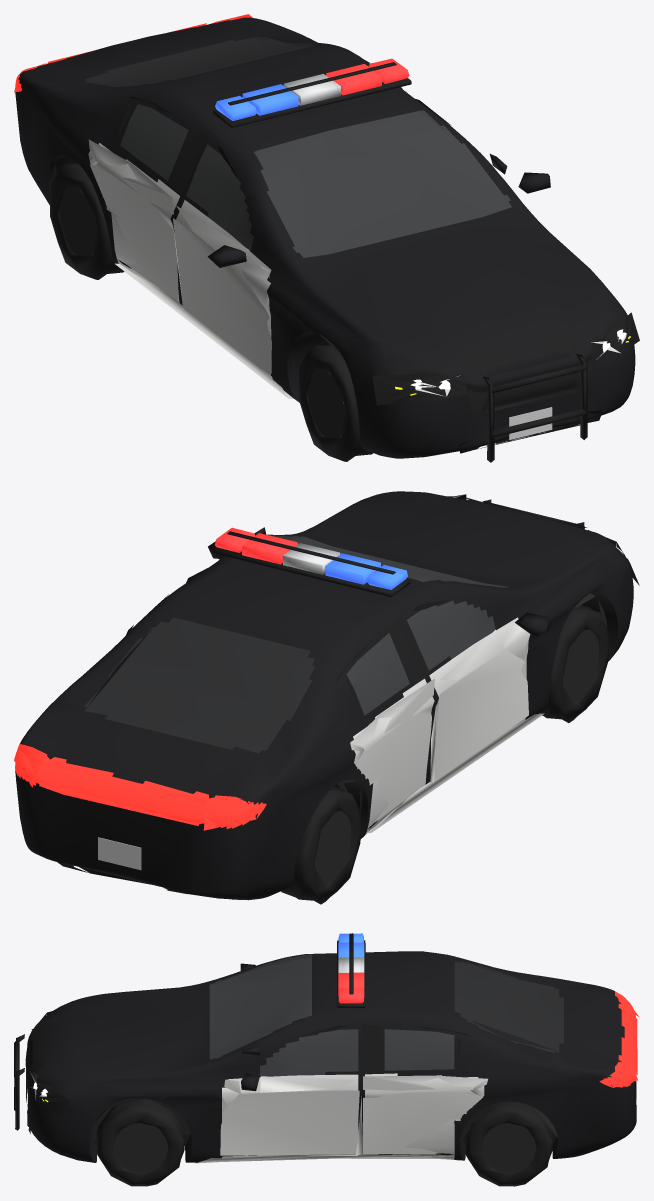
File: patrolSedan-lod2.glb
The picture shows the model from 3 angles, top to bottom: view 1: azimuth 30°, elevation 25°; view 2: azimuth 150°, elevation 25°; view 3: azimuth 270°, elevation 25°; orthographic projection. The views are drawn at different scales.
Parts seen in each view (by area): view 1: Body, Body_Lining, Body_Trim, Wheel_FR_Tyre, Wheel_RR_Tyre, Wheel_FR_Face, Wheel_RR_Face, EmergencyBarBase, EmergencyBarBlue, EmergencyBarClear1, EmergencyBarRed2, PlateFront (+4 smaller); view 2: Body, Body_Trim, Body_Lining, Wheel_RR_Tyre, Wheel_FR_Tyre, Wheel_RR_Face, Wheel_FR_Face, EmergencyBarBase, PlateRear, EmergencyBarClear1, EmergencyBarBlue, EmergencyBarRed2 (+3 smaller); view 3: Body, Body_Trim, Body_Lining, Wheel_FL_Tyre, Wheel_RL_Tyre, Wheel_RL_Face, Wheel_FL_Face, Arch_F_L_Liner, Arch_R_L_Liner, EmergencyBarRed2, EmergencyBarBase, EmergencyBarRed (+2 smaller).
Part boxes in pixels (bbox=[...]): Body: bbox=[15, 17, 635, 458]; Body_Lining: bbox=[88, 40, 511, 257]; Body_Trim: bbox=[14, 14, 639, 453]; Wheel_FR_Tyre: bbox=[298, 344, 373, 461]; Wheel_RR_Tyre: bbox=[50, 163, 124, 279]; Wheel_FR_Face: bbox=[308, 369, 343, 438]; Wheel_RR_Face: bbox=[59, 187, 94, 256]; EmergencyBarBase: bbox=[213, 78, 411, 127]; EmergencyBarBlue: bbox=[242, 84, 298, 115]; EmergencyBarClear1: bbox=[283, 74, 340, 105]; EmergencyBarRed2: bbox=[326, 64, 381, 95]; PlateFront: bbox=[509, 407, 552, 439]; Body: bbox=[15, 491, 633, 900]; Body_Trim: bbox=[14, 494, 639, 894]; Body_Lining: bbox=[85, 537, 506, 752]; Wheel_RR_Tyre: bbox=[281, 786, 361, 904]; Wheel_FR_Tyre: bbox=[539, 605, 608, 722]; Wheel_RR_Face: bbox=[314, 810, 351, 883]; Wheel_FR_Face: bbox=[562, 629, 598, 702]; EmergencyBarBase: bbox=[212, 547, 410, 596]; PlateRear: bbox=[98, 837, 141, 870]; EmergencyBarClear1: bbox=[282, 543, 340, 574]; EmergencyBarBlue: bbox=[325, 553, 380, 584]; EmergencyBarRed2: bbox=[242, 533, 297, 564]; Body: bbox=[27, 951, 636, 1162]; Body_Trim: bbox=[25, 963, 639, 1163]; Body_Lining: bbox=[210, 958, 563, 1076]; Wheel_FL_Tyre: bbox=[96, 1098, 184, 1186]; Wheel_RL_Tyre: bbox=[465, 1101, 552, 1186]; Wheel_RL_Face: bbox=[481, 1123, 536, 1172]; Wheel_FL_Face: bbox=[113, 1123, 168, 1172]; Arch_F_L_Liner: bbox=[90, 1097, 190, 1140]; Arch_R_L_Liner: bbox=[460, 1104, 557, 1140]; EmergencyBarRed2: bbox=[338, 972, 364, 991]; EmergencyBarBase: bbox=[337, 940, 365, 1007]; EmergencyBarRed: bbox=[338, 988, 364, 1003].
Bounding box in the file's own units: 2.41 × 1.63 × 5.19.
